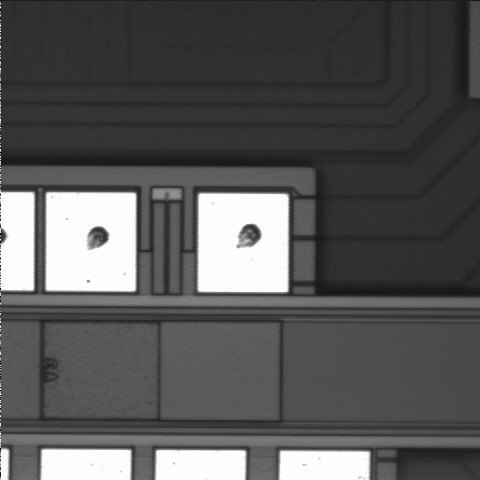pad: (46, 192, 136, 291), (198, 194, 288, 292)
